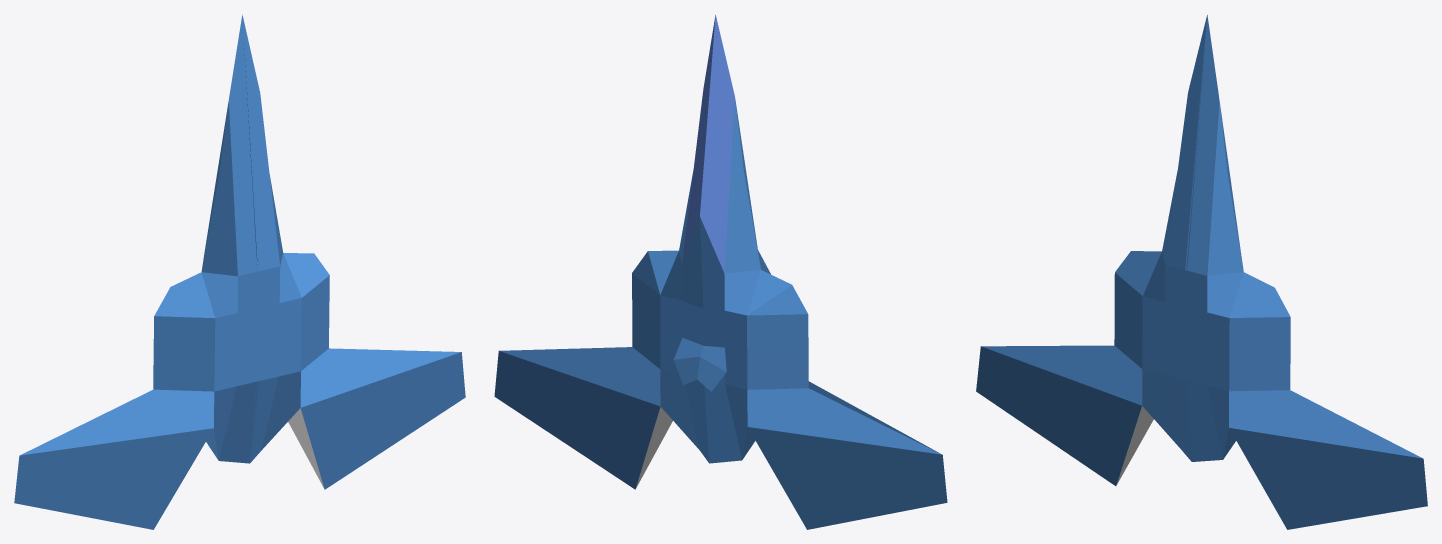
The model's file is spacecraft1.fbx.
3 renders of one model, left to right at view 1: azimuth 30°, elevation 25°; view 2: azimuth 150°, elevation 25°; view 3: azimuth 330°, elevation 25°, orthographic.
Visible parts, largest first — view 1: Cube.002; view 2: Cube.002; view 3: Cube.002.
Boxes of the visible parts, box(x1,y1,x2,y2) form: Cube.002: box(14, 14, 465, 529); Cube.002: box(494, 15, 947, 529); Cube.002: box(976, 15, 1427, 529).
Bounding box in the file's own units: 186 × 195 × 28.75.
